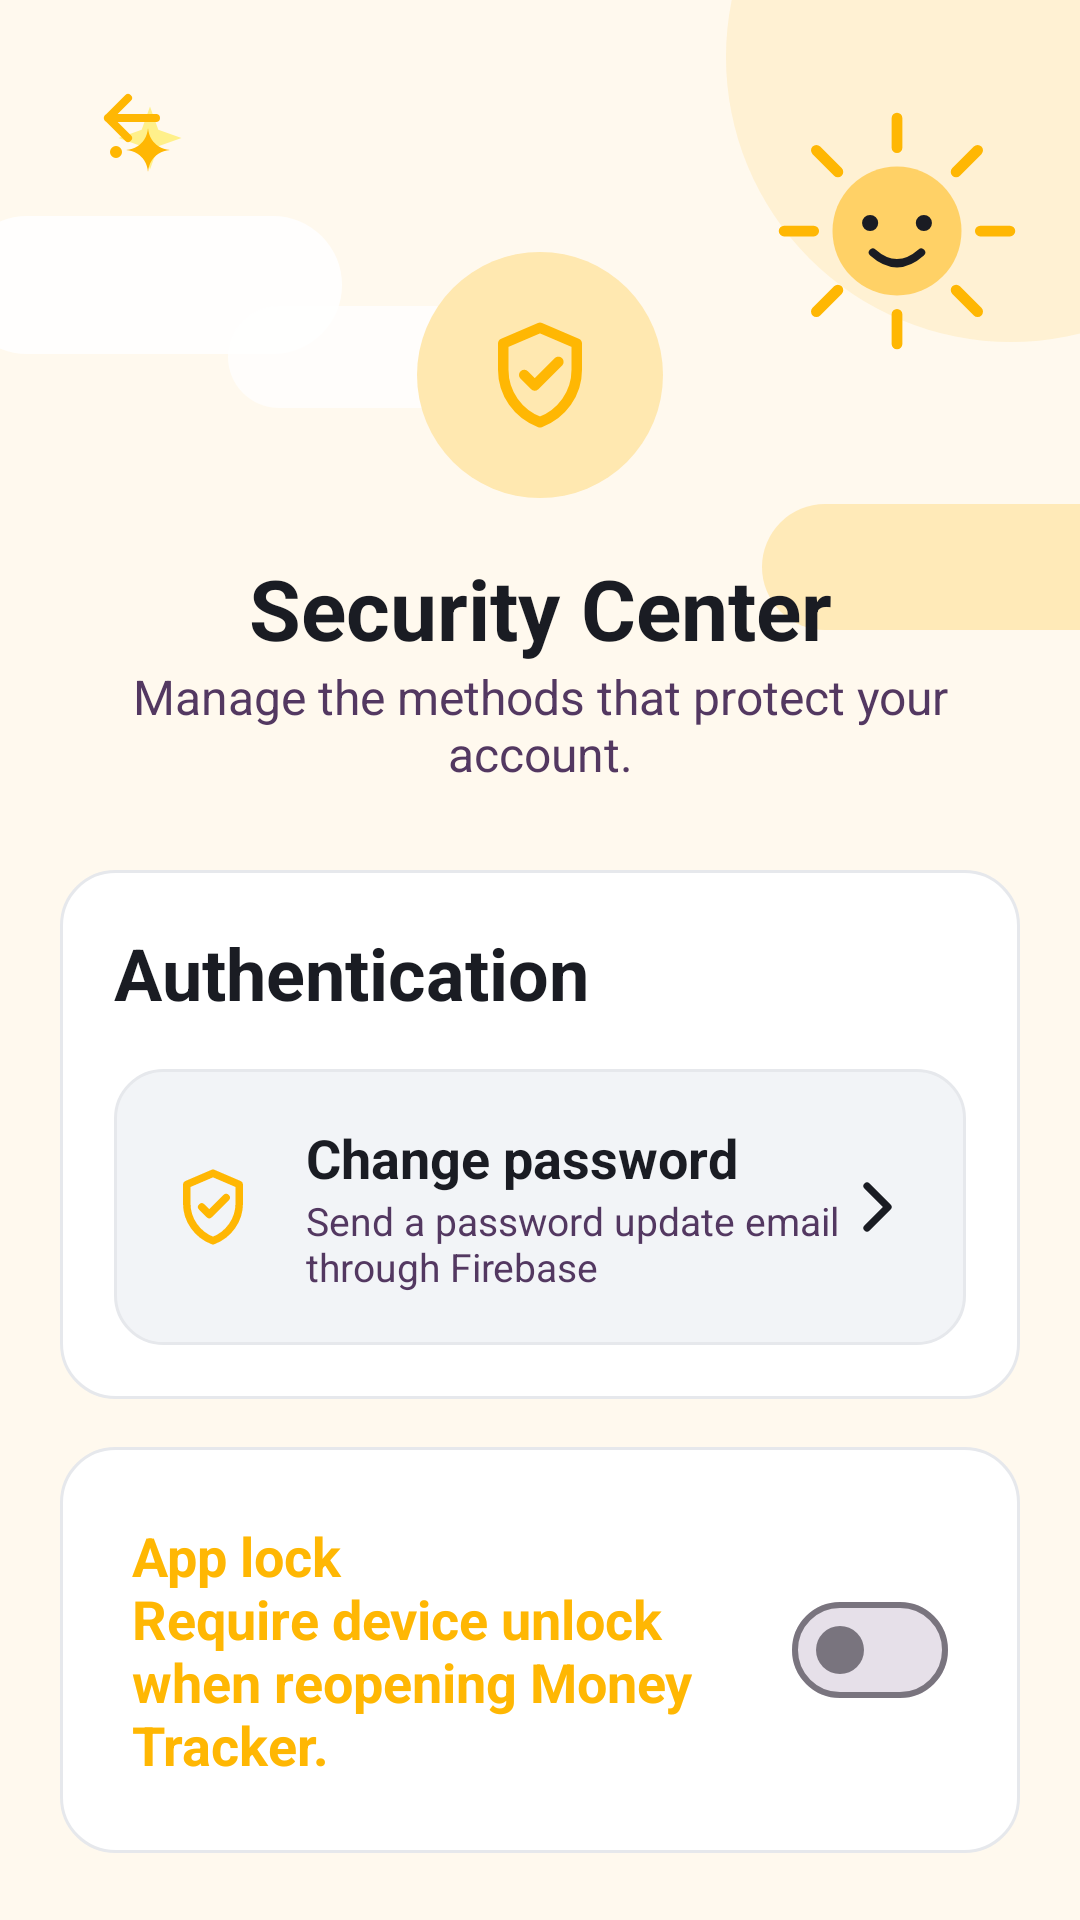

Icons on this 1080px x 1920px Android screen, each with the point to tap as point (x, y):
chevron right: point (877, 1207)
shield check: point (540, 375), point (213, 1207)
